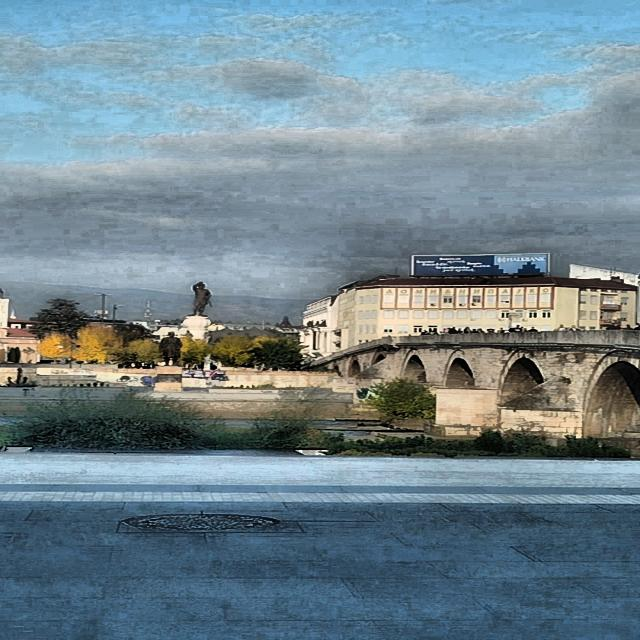Philip II of Macedonia: (174, 279, 222, 348)
stone bridge: (302, 331, 640, 446)
